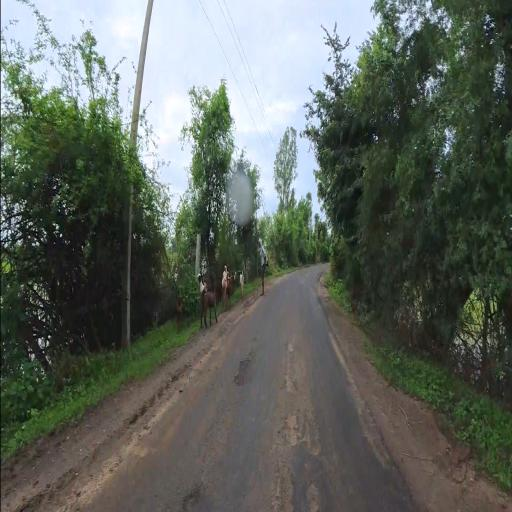ravelling: (228, 324, 323, 471)
